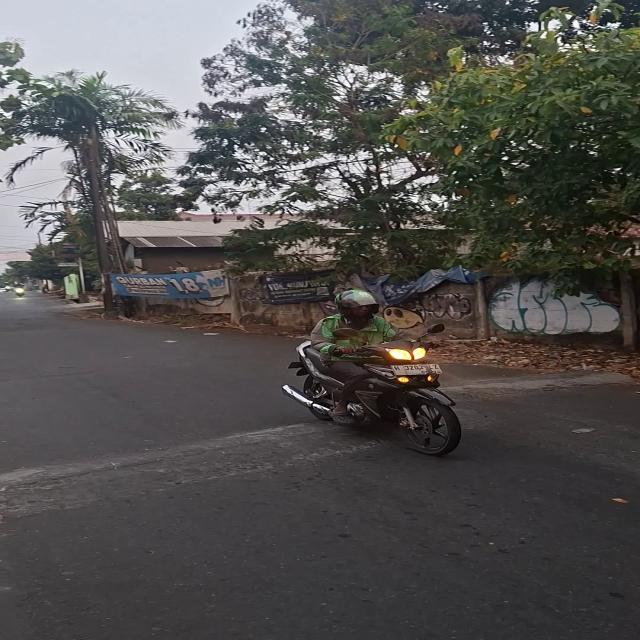WithHelmet: (307, 289, 428, 422)
